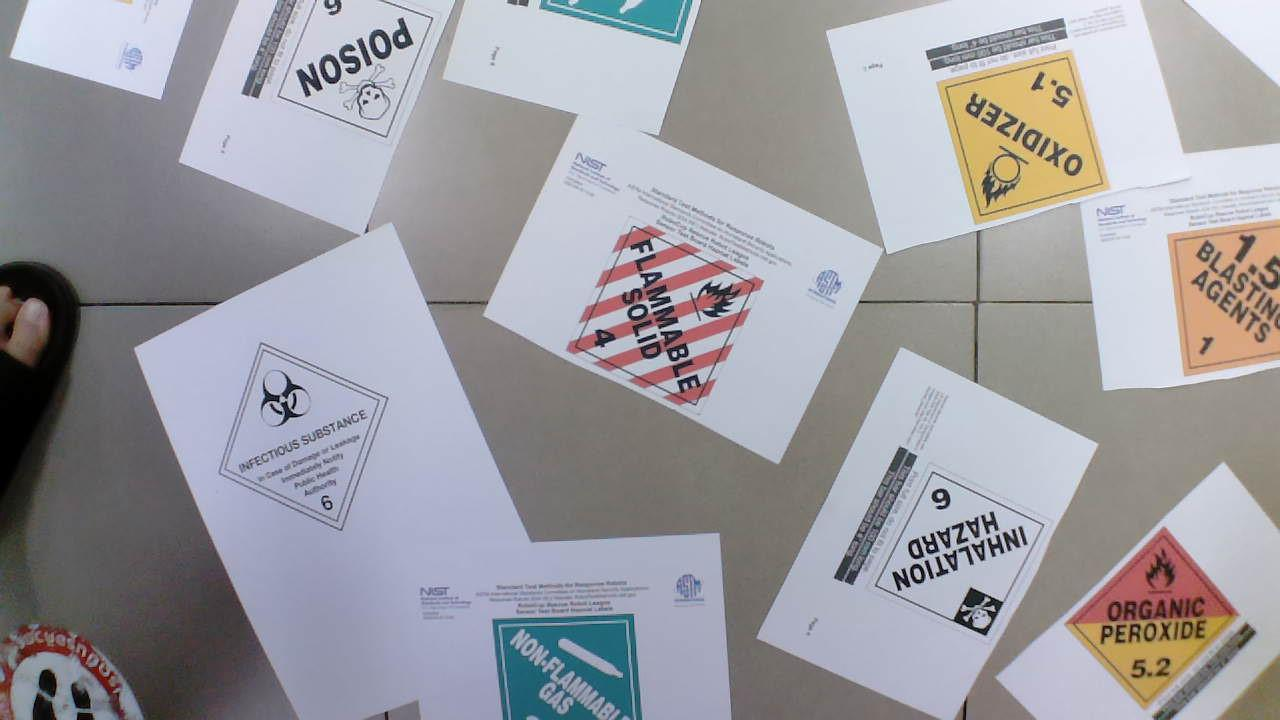explosive: (1172, 213, 1280, 380)
flammable-solid: (572, 211, 777, 413)
infectious-substance: (195, 338, 405, 535)
non-flammable-gas: (488, 608, 674, 720)
organic-peroxide: (1065, 525, 1248, 712)
oxidizer: (928, 55, 1112, 220)
poison: (875, 466, 1053, 646), (275, 1, 442, 128)
